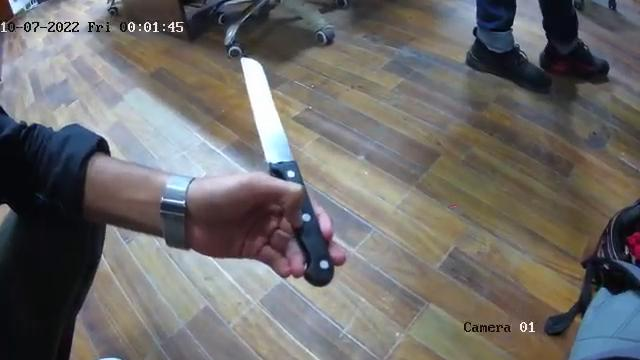knives: (239, 54, 337, 289)
